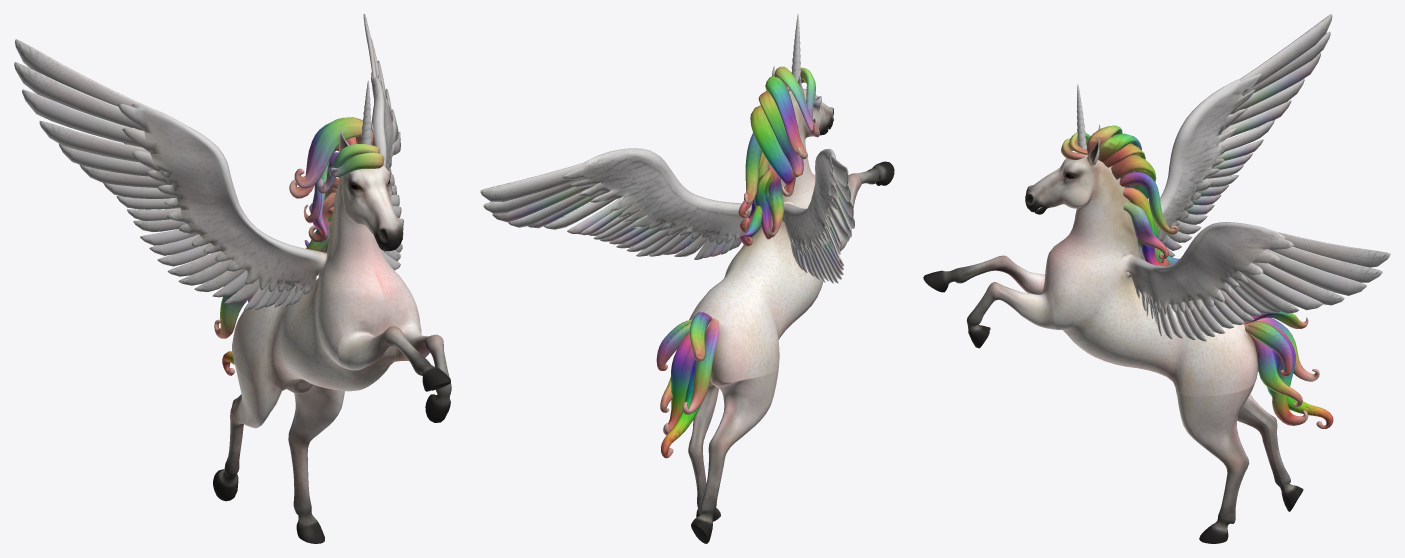
File: unicorn.glb
The picture shows the model from 3 angles, left to right: view 1: azimuth 30°, elevation 25°; view 2: azimuth 150°, elevation 25°; view 3: azimuth 270°, elevation 25°; orthographic projection. The views are drawn at different scales.
Parts seen in each view (by area): view 1: node_id30; view 2: node_id30; view 3: node_id30.
Part boxes in pixels (<box>): node_id30: <box>14,14,451,543</box>; node_id30: <box>480,14,894,543</box>; node_id30: <box>923,14,1390,543</box>.
Bounding box in the file's own units: 1.16 × 1.5 × 1.42.
1 material, 1 textured.
